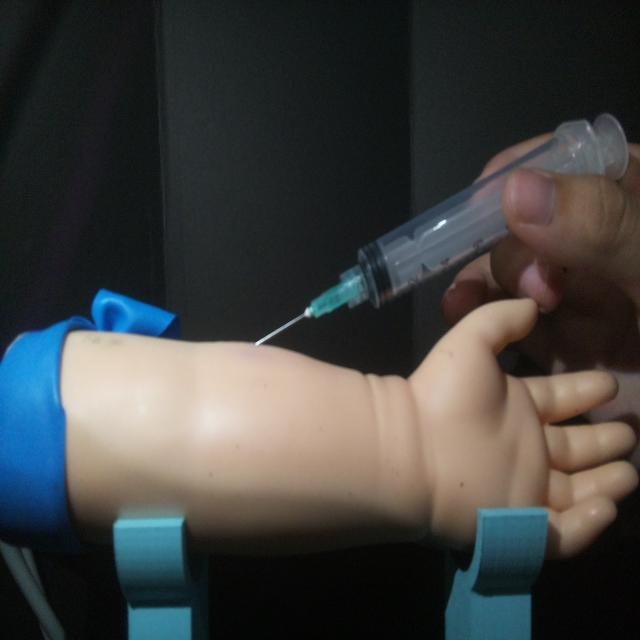26deg: (249, 108, 630, 350)
